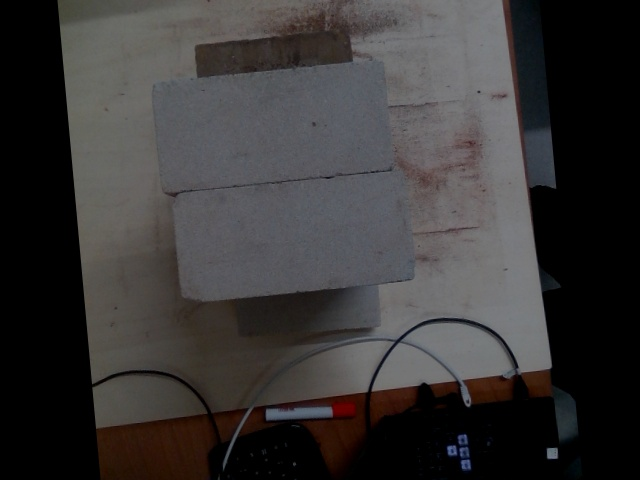brick: (171, 173, 413, 299), (148, 63, 390, 188)
